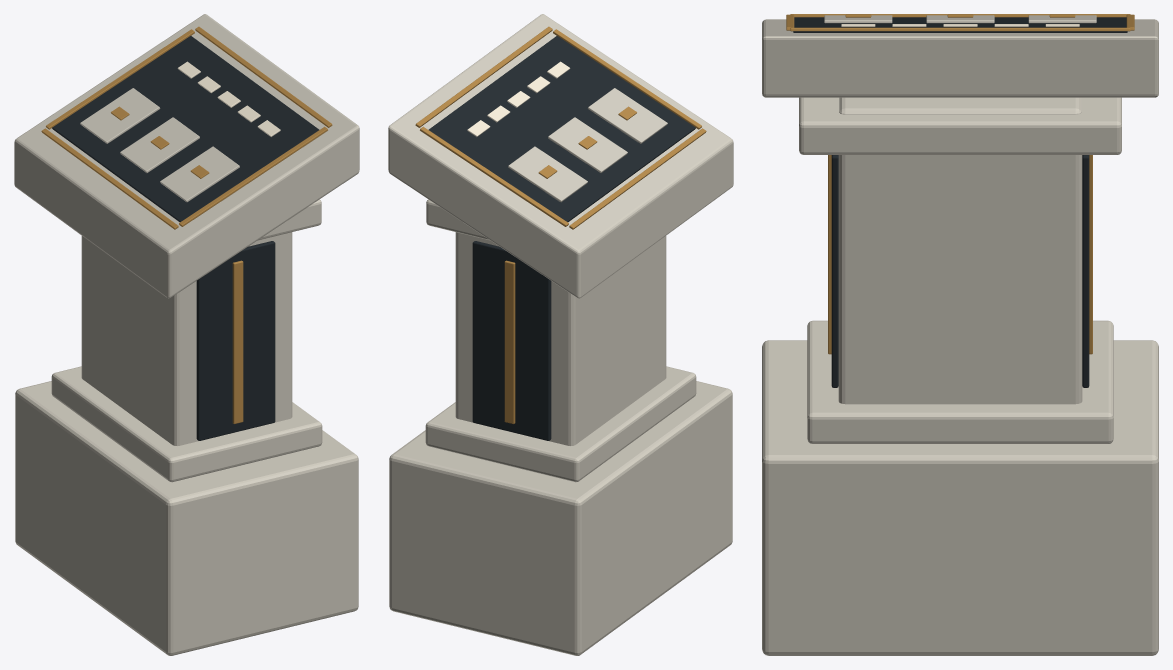
The model's file is SM_Aurelion_KIT_Z07PriorityConsole.fbx.
The picture shows the model from 3 angles, left to right: view 1: azimuth 30°, elevation 25°; view 2: azimuth 150°, elevation 25°; view 3: azimuth 270°, elevation 25°; orthographic projection. The views are drawn at different scales.
Parts seen in each view (by area): view 1: SM_Aurelion_KIT_Z07PriorityConsole; view 2: SM_Aurelion_KIT_Z07PriorityConsole; view 3: SM_Aurelion_KIT_Z07PriorityConsole.
Boxes of the visible parts, box(x1,y1,x2,y2) form: SM_Aurelion_KIT_Z07PriorityConsole: box(14, 14, 359, 655); SM_Aurelion_KIT_Z07PriorityConsole: box(388, 14, 733, 655); SM_Aurelion_KIT_Z07PriorityConsole: box(762, 14, 1158, 655).
Size of the model in its own units: 50 by 70 by 121.
